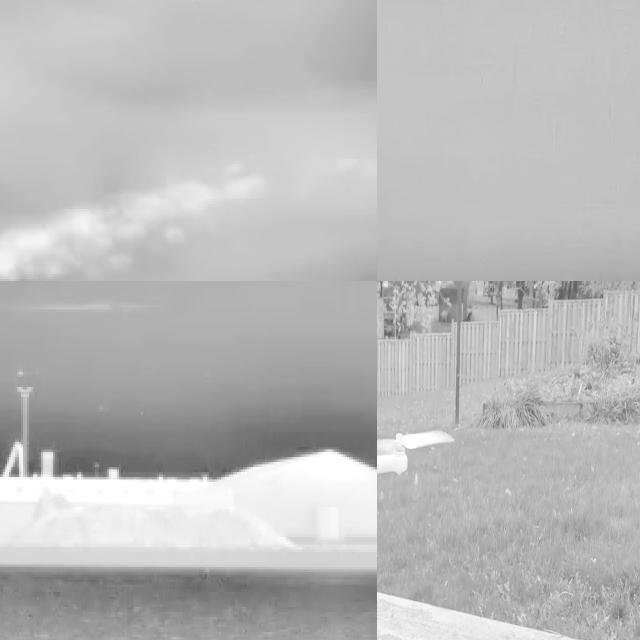0: (11, 360, 35, 384), (172, 0, 208, 9)
drone: (377, 405, 444, 609)
